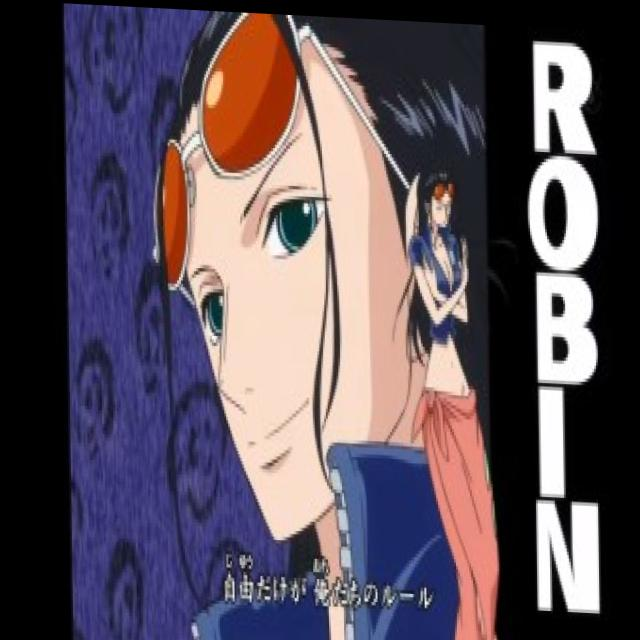NicoRobin: (165, 7, 425, 515), (410, 167, 469, 240)
